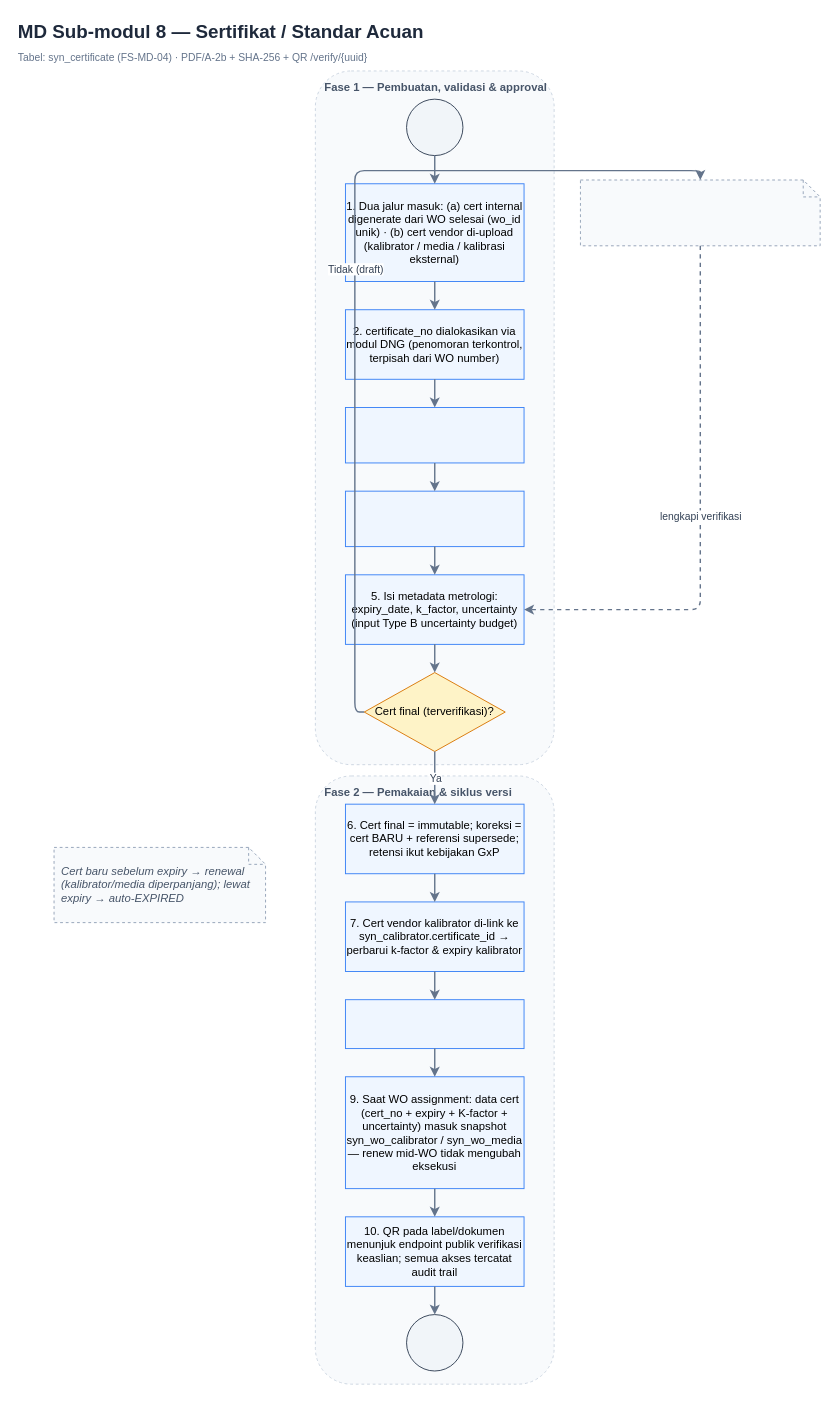
The diagram is 837 pixels wide and 1401 high, and some of its shapes have lost their labels. The shapes that lost their labels are listed below. From the top down, each one's centre as x and y in pixels, then its label:
At point (434, 127): "Mulai".
At point (700, 212): "Draft = watermark DRAFT; satu cert per WO internal (wo_id unik)".
At point (434, 435): "3. certificate_uuid dibuat → dasar QR code verifikasi lapangan (/verify/{uuid})".
At point (434, 518): "4. Simpan file PDF/A-2b di object storage + hitung SHA-256 hash (integritas)".
At point (434, 1024): "8. Cert media di-link ke syn_media.certificate_id".
At point (434, 1342): "Selesai".
